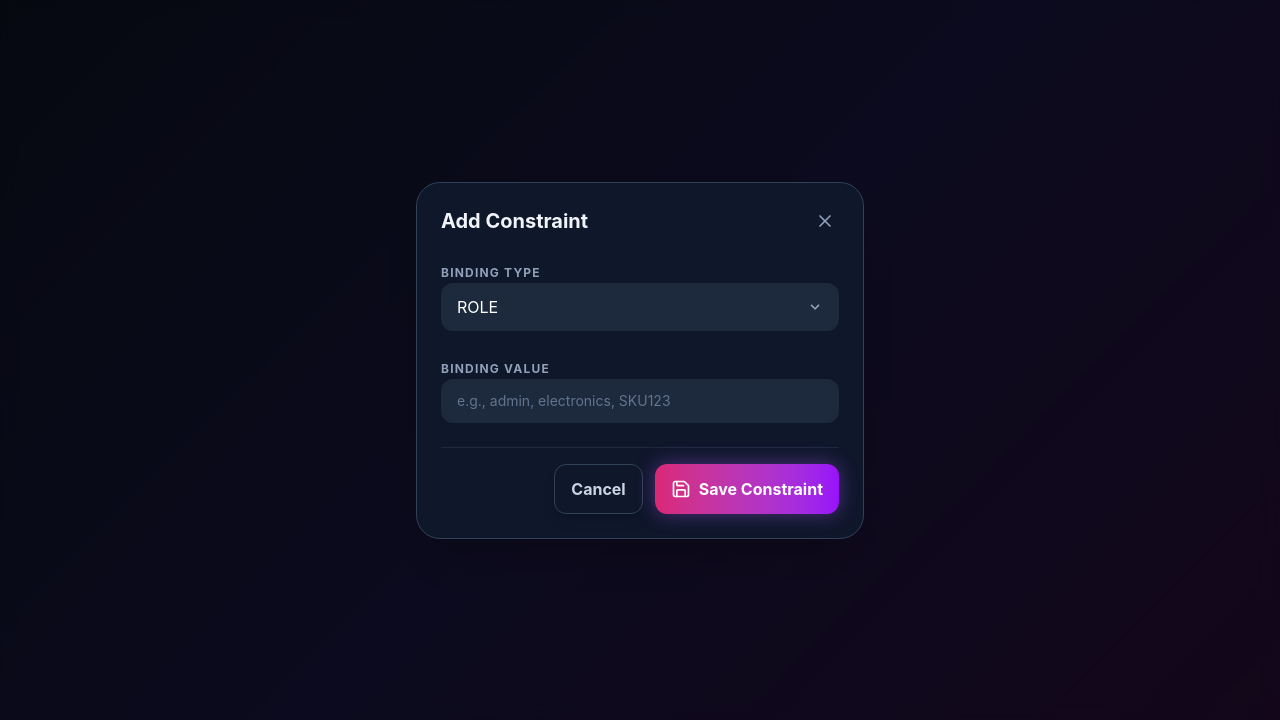
VoucherBindingModal Component › SHOULD show validation error if binding value is empty
This screenshot has width=1280, height=720.
Click the button "Save Constraint" at x=747, y=488, box [655,464,839,514]
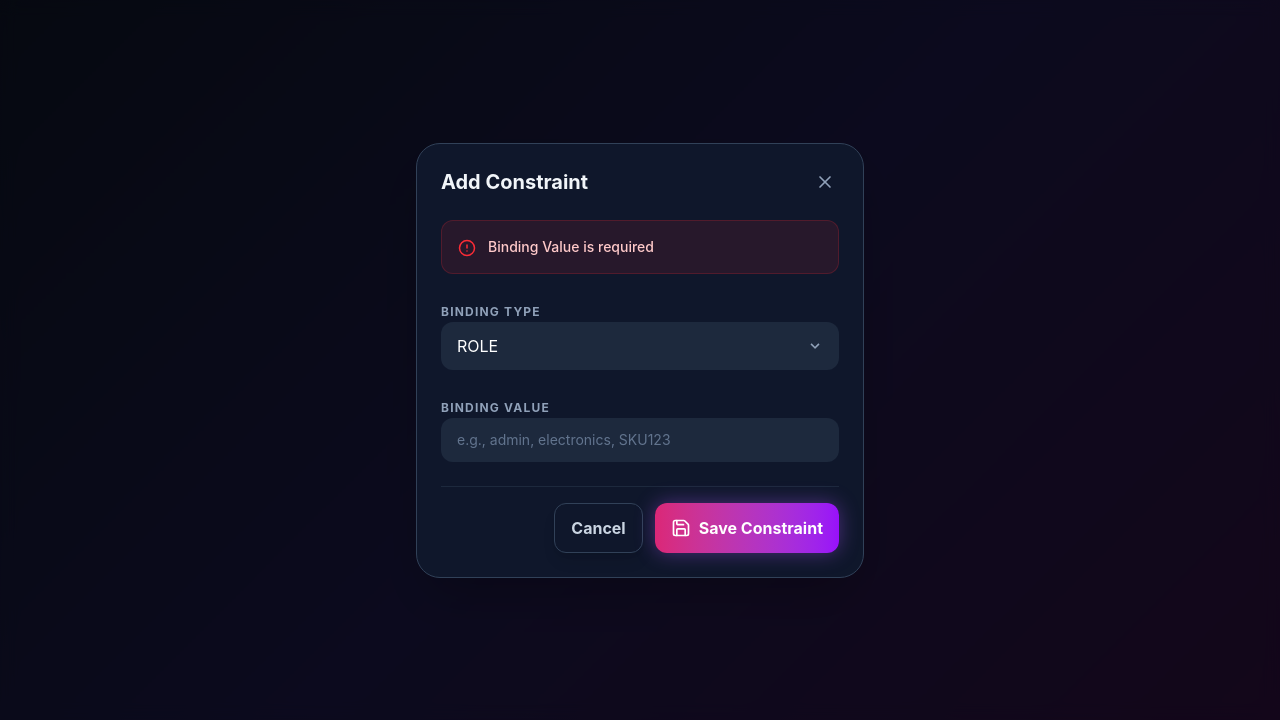
Check: the text "Binding Value is required" is shown, box [488,236,654,256]
